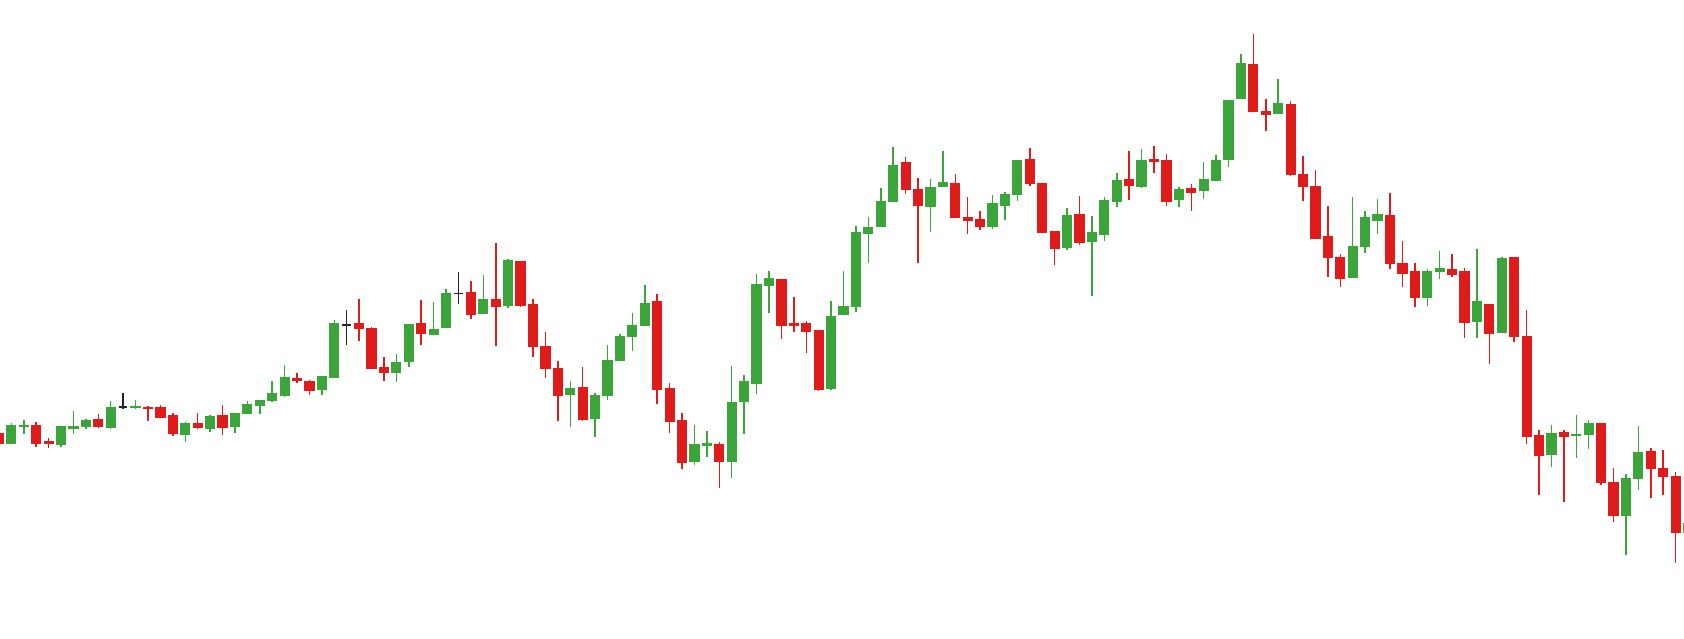buy: (971, 188, 1073, 274)
